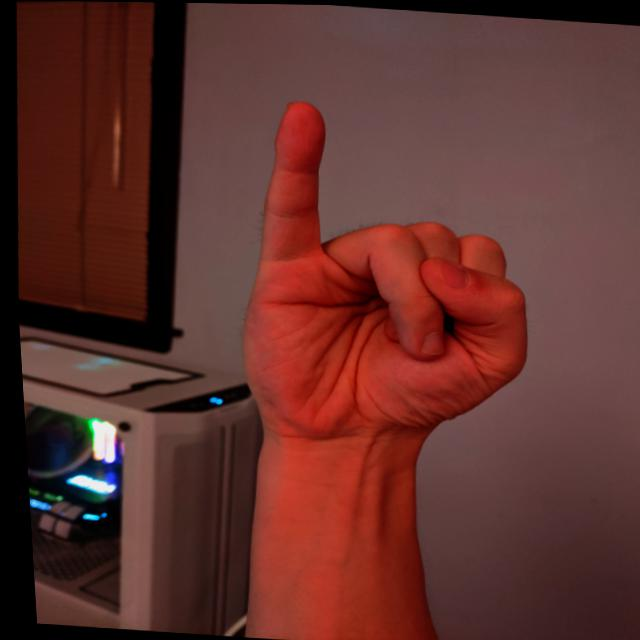I: (208, 87, 549, 467)
